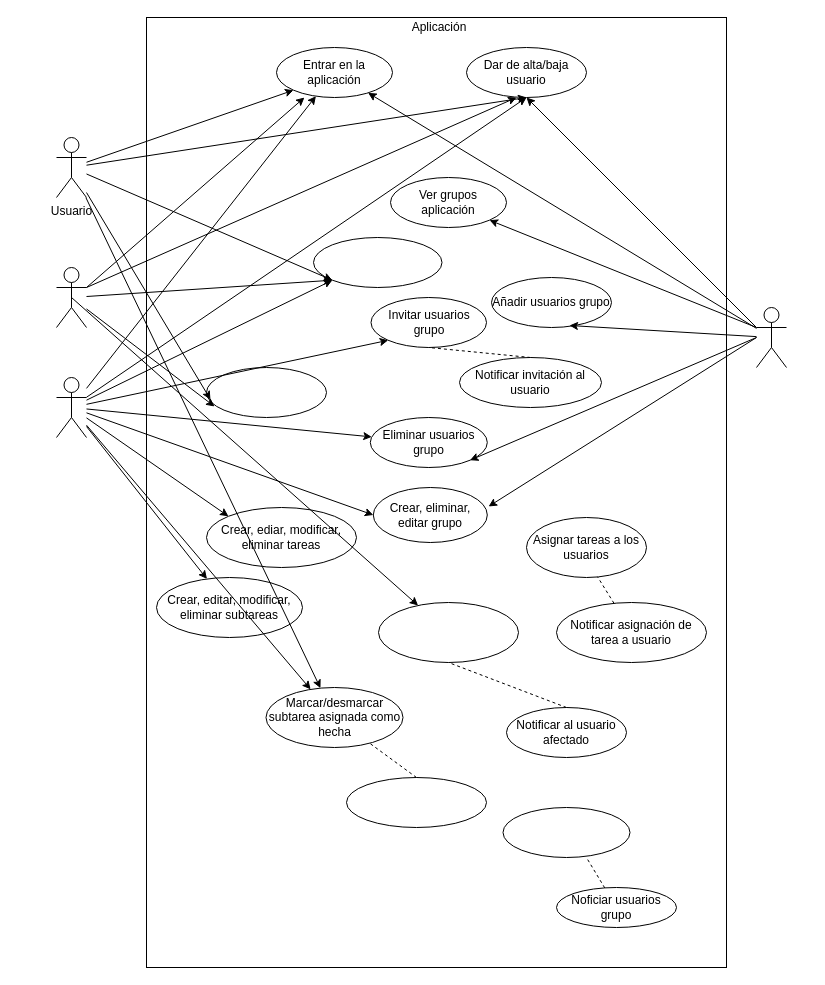
The diagram is 825 pixels wide and 985 high, and some of its shapes have lost their labels. Here are the shapes that lost their labels. From the top down, the centre of each, then its label:
At (x=377, y=262): "Ver grupos del usuario".
At (x=71, y=297): "Revisor tareas".
At (x=771, y=337): "Administrador aplicación".
At (x=71, y=407): "Administrador grupo".
At (x=266, y=392): "Aceptar/rechazar invitación grupo".
At (x=448, y=632): "Marcar/desmarcar subtarea grupo como hecha".
At (x=416, y=802): "Notificar a los demás usuarios".
At (x=566, y=832): "Crear multas subtareas usuarios".
